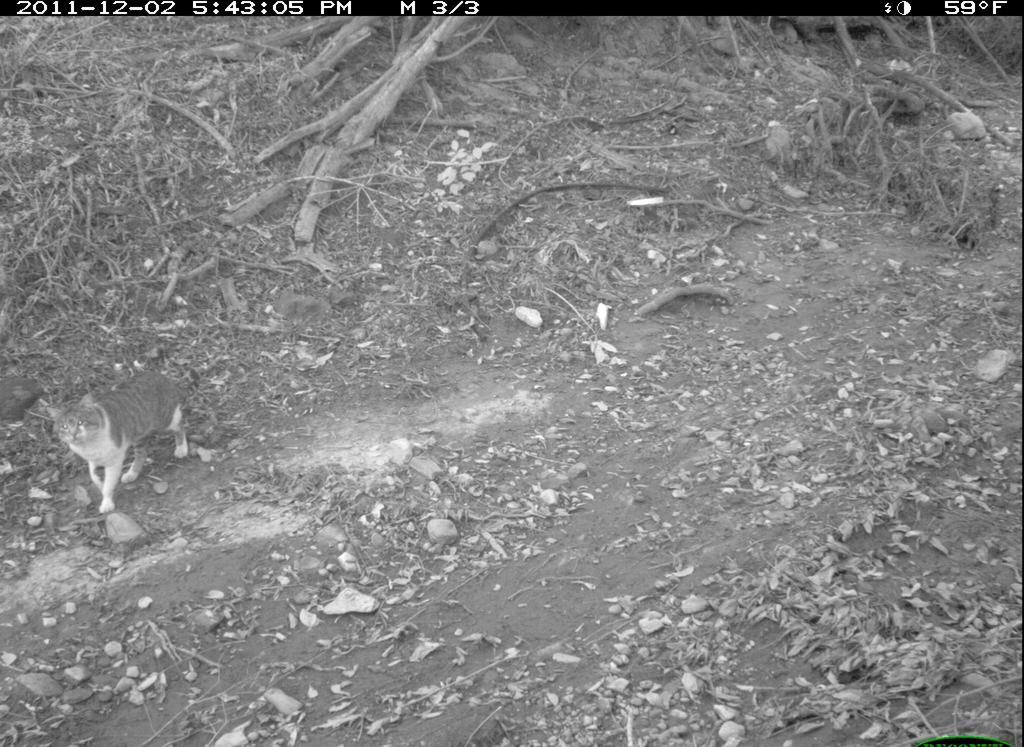cat: (38, 364, 208, 520)
